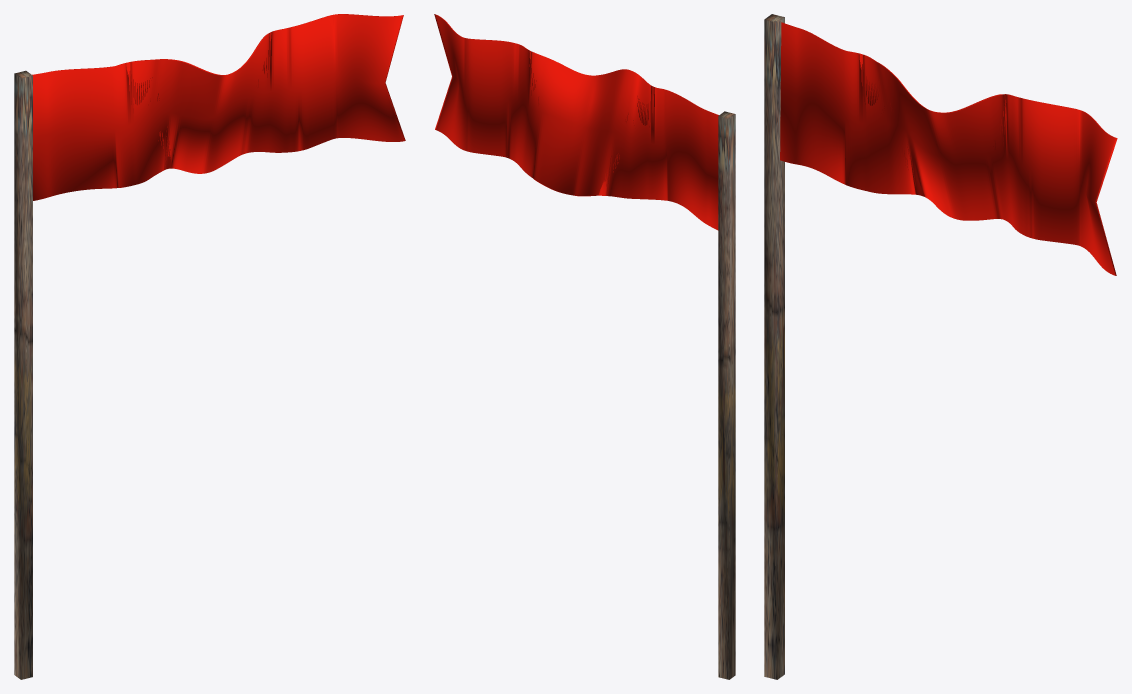
File: Flag.fbx
3 renders of one model, left to right at view 1: azimuth 30°, elevation 25°; view 2: azimuth 150°, elevation 25°; view 3: azimuth 330°, elevation 25°, orthographic. The views are drawn at different scales.
Parts seen in each view (by area): view 1: Flag; view 2: Flag; view 3: Flag.
Boxes of the visible parts, x1,y1,x2,y2 form: Flag: (14, 14, 405, 679); Flag: (434, 14, 735, 679); Flag: (764, 14, 1117, 679).
Size of the model in its own units: 5925 by 9662 by 1102.
